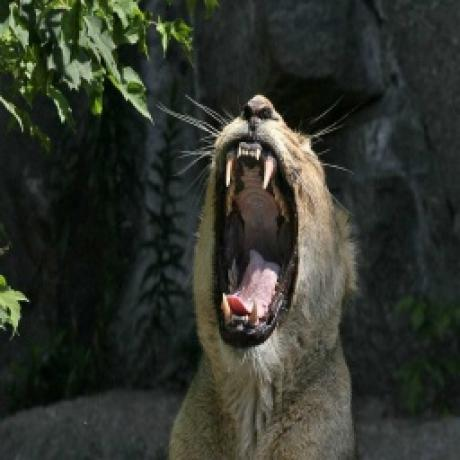Lion: (155, 90, 365, 460)
